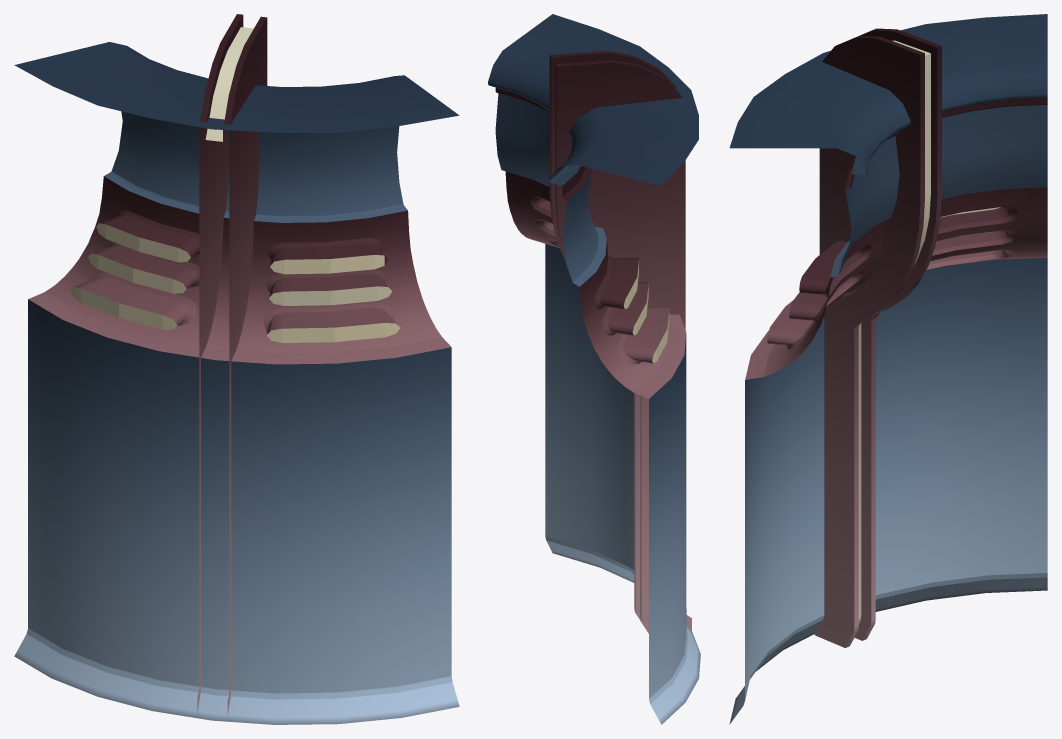
File: ENV_TallWall_Acute.FBX
3 views of the same model, side by side, from view 1: azimuth 30°, elevation 25°; view 2: azimuth 150°, elevation 25°; view 3: azimuth 270°, elevation 25° (orthographic). The views are drawn at different scales.
Parts seen in each view (by area): view 1: ENV_TallWall_Acute; view 2: ENV_TallWall_Acute; view 3: ENV_TallWall_Acute.
Boxes of the visible parts, x1=… form: ENV_TallWall_Acute: x1=14, y1=14, x2=459, y2=724; ENV_TallWall_Acute: x1=488, y1=14, x2=700, y2=724; ENV_TallWall_Acute: x1=729, y1=14, x2=1047, y2=724.
Size of the model in its own units: 500 by 1084 by 500.
Materials: 2 (2 with a texture image).
